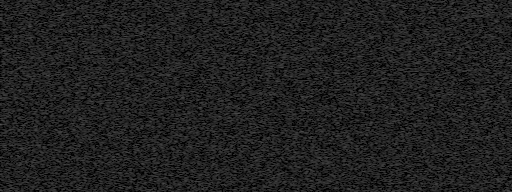wv_am: (72, 0, 78, 185), (32, 0, 37, 192), (52, 0, 57, 88), (52, 89, 57, 135), (52, 160, 57, 192), (52, 140, 57, 159), (52, 136, 57, 139)
wv_cw: (432, 0, 438, 192), (40, 0, 46, 192), (20, 0, 25, 192), (40, 0, 45, 192)
wv_wbfm: (294, 0, 310, 192), (459, 0, 471, 192)
